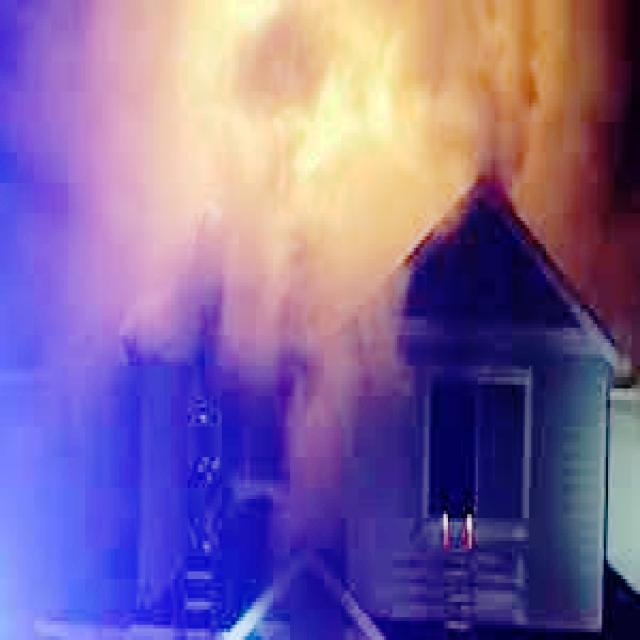api: (84, 13, 481, 337)
